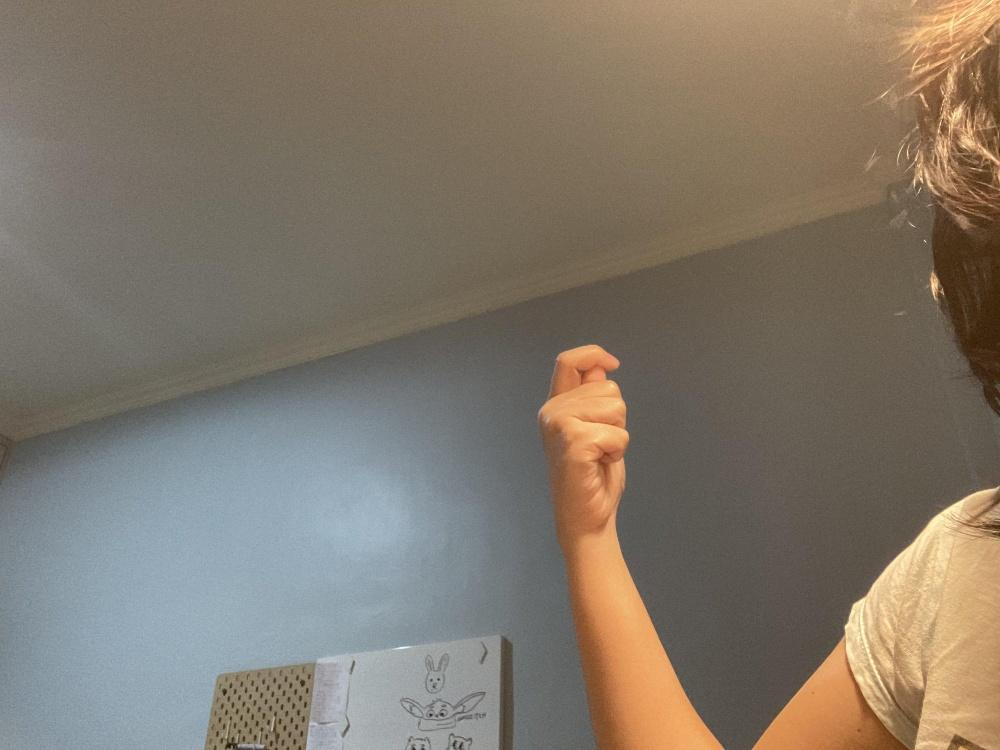t: (536, 343, 629, 535)
